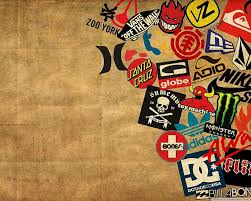adidas: (175, 110, 222, 150)
nike: (207, 77, 250, 95)
vans: (125, 10, 143, 27)
